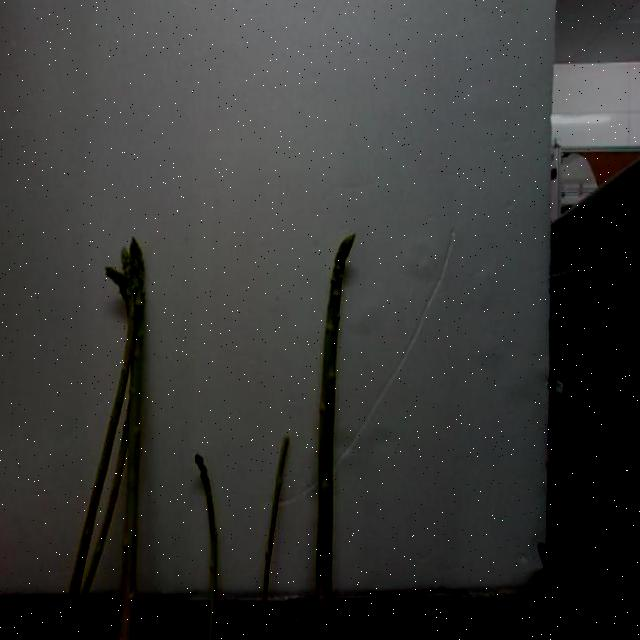aspargus: (316, 235, 352, 640), (120, 238, 148, 639), (192, 457, 218, 640)
